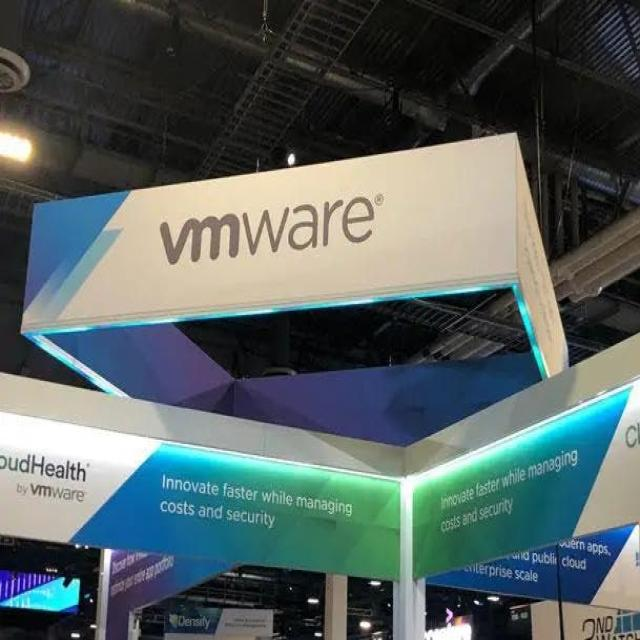vmware: (159, 214, 239, 266)
